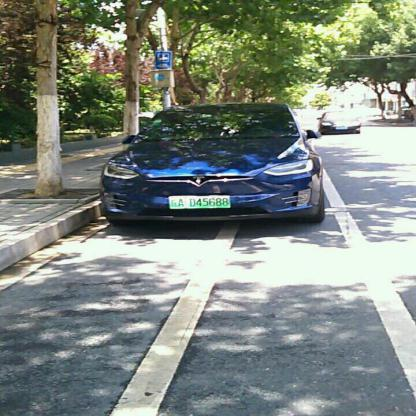lp: (168, 194, 230, 209)
